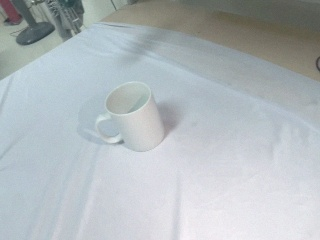cup: (88, 80, 166, 155)
